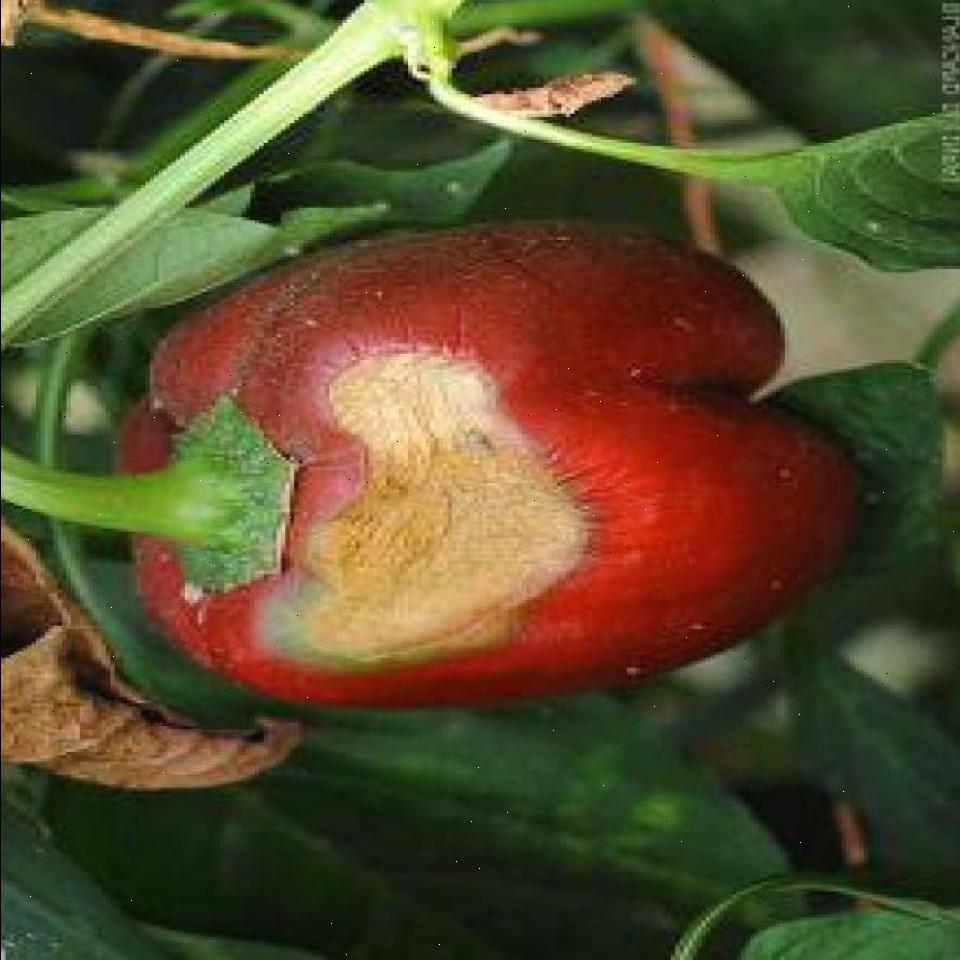Sunscald: (252, 344, 588, 674)
